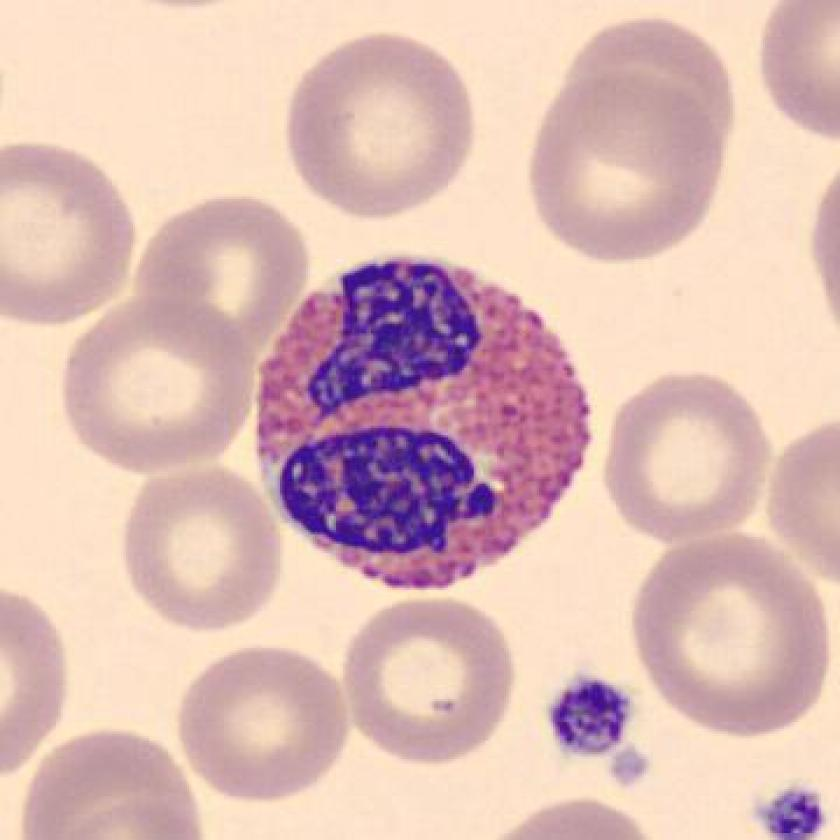eosinophil: (241, 246, 601, 605)
